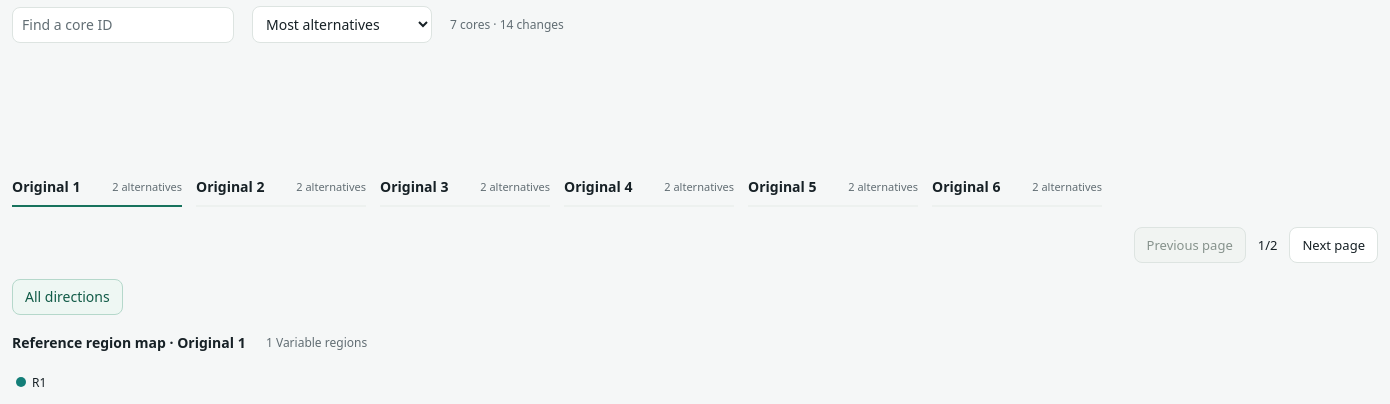
it: retains every original core through the same bounded gallery pagination
Expected: the number of buttons named "Select core " is 6, [12, 169, 182, 205]; [196, 169, 366, 205]; [380, 169, 550, 205]; [564, 169, 734, 205]; [748, 169, 918, 205]; [932, 169, 1102, 205]
Click the button "Next page" at (1334, 245), box [1290, 227, 1378, 263]
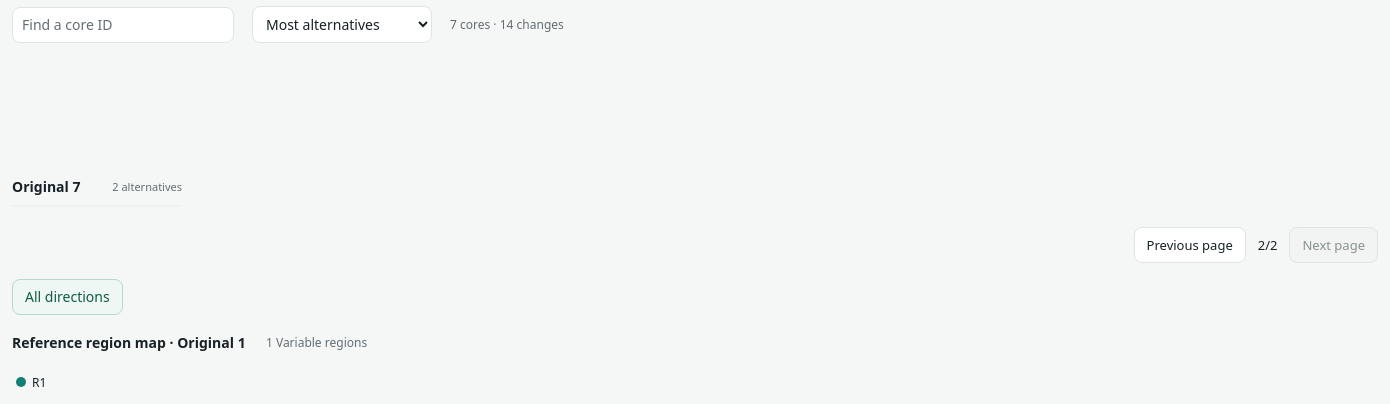
Expected: the field labelled "Find a core ID" is shown, [12, 6, 234, 42]
Result: the number of buttons named "Select core " is 1 at [12, 169, 182, 205]
Click the button "Previous page" at (1190, 245), box [1134, 227, 1246, 263]
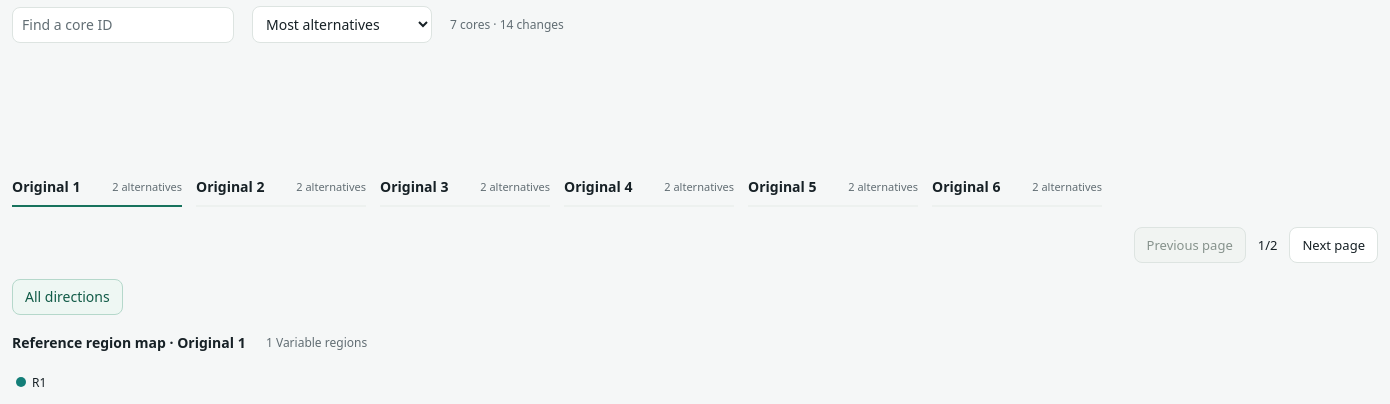
Result: the number of buttons named "Select core " is 6 at [12, 169, 182, 205]; [196, 169, 366, 205]; [380, 169, 550, 205]; [564, 169, 734, 205]; [748, 169, 918, 205]; [932, 169, 1102, 205]
